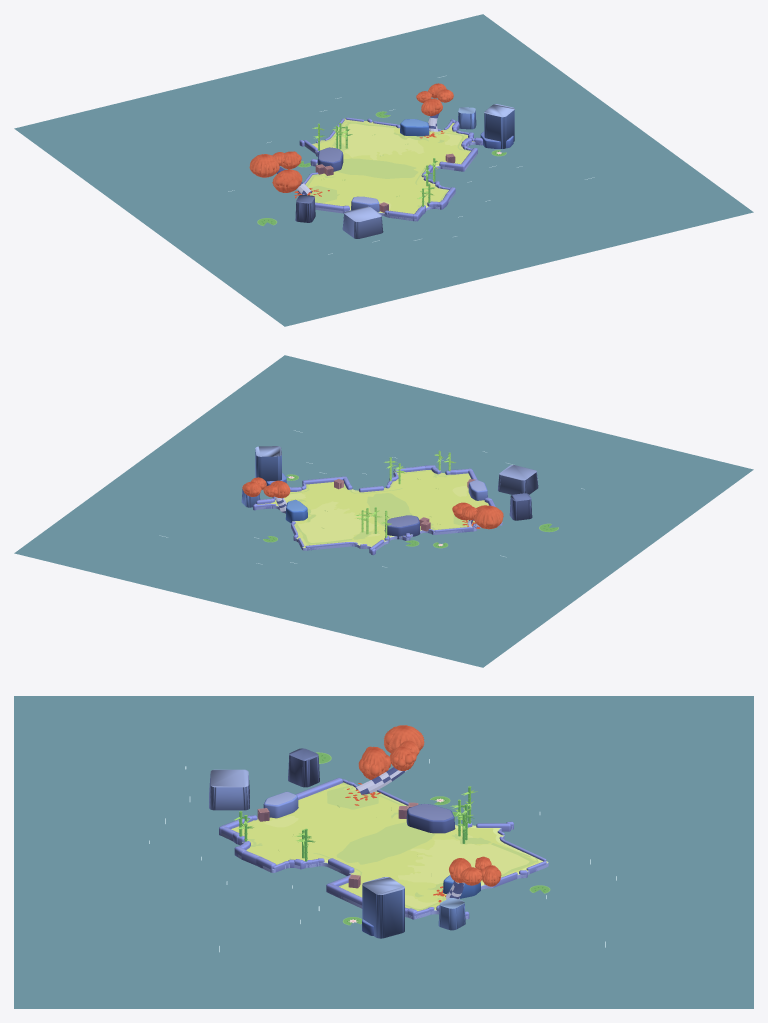
Rendered from plaza.glb.
The picture shows the model from 3 angles, top to bottom: view 1: azimuth 30°, elevation 25°; view 2: azimuth 150°, elevation 25°; view 3: azimuth 270°, elevation 25°; orthographic projection. The views are drawn at different scales.
Parts seen in each view (by area): view 1: FOUNTAIN_water, LIME, SHADE, PALE, BOULDER_3, BOULDER_7, BANK_0, BOULDER_5, TREE_0_0; view 2: FOUNTAIN_water, LIME, PALE, SHADE, BOULDER_7, BOULDER_3, BANK_0, STONE_2_0, BOULDER_5; view 3: FOUNTAIN_water, LIME, SHADE, PALE, BOULDER_3, BOULDER_7, BANK_0, STONE_2_0, BOULDER_5, BOULDER_0, STONE_6_0, TREE_0_0 (+2 smaller).
Boxes of the visible parts, x1,y1,x2,y2 form: FOUNTAIN_water: (14, 14, 753, 326); LIME: (307, 121, 469, 213); SHADE: (307, 121, 470, 211); PALE: (338, 123, 461, 208); BOULDER_3: (484, 104, 514, 148); BOULDER_7: (342, 206, 383, 238); BANK_0: (297, 118, 481, 221); BOULDER_5: (295, 194, 315, 222); TREE_0_0: (249, 154, 279, 177); FOUNTAIN_water: (14, 355, 753, 667); LIME: (270, 470, 488, 545); PALE: (284, 486, 468, 542); SHADE: (257, 470, 488, 545); BOULDER_7: (497, 465, 538, 494); BOULDER_3: (255, 446, 281, 481); BANK_0: (256, 472, 502, 553); STONE_2_0: (384, 515, 420, 539); BOULDER_5: (509, 493, 532, 520); FOUNTAIN_water: (14, 696, 753, 1008); LIME: (231, 784, 539, 911); SHADE: (231, 782, 537, 909); PALE: (264, 816, 529, 908); BOULDER_3: (362, 877, 404, 938); BOULDER_7: (209, 769, 249, 810); BANK_0: (221, 784, 548, 919); STONE_2_0: (406, 804, 455, 833); BOULDER_5: (288, 748, 319, 787); BOULDER_0: (438, 898, 465, 930); STONE_6_0: (263, 791, 298, 818); TREE_0_0: (383, 725, 424, 752).
Size of the model in its own units: 108 by 10.55 by 108.
Materials: 25 (1 with a texture image).
